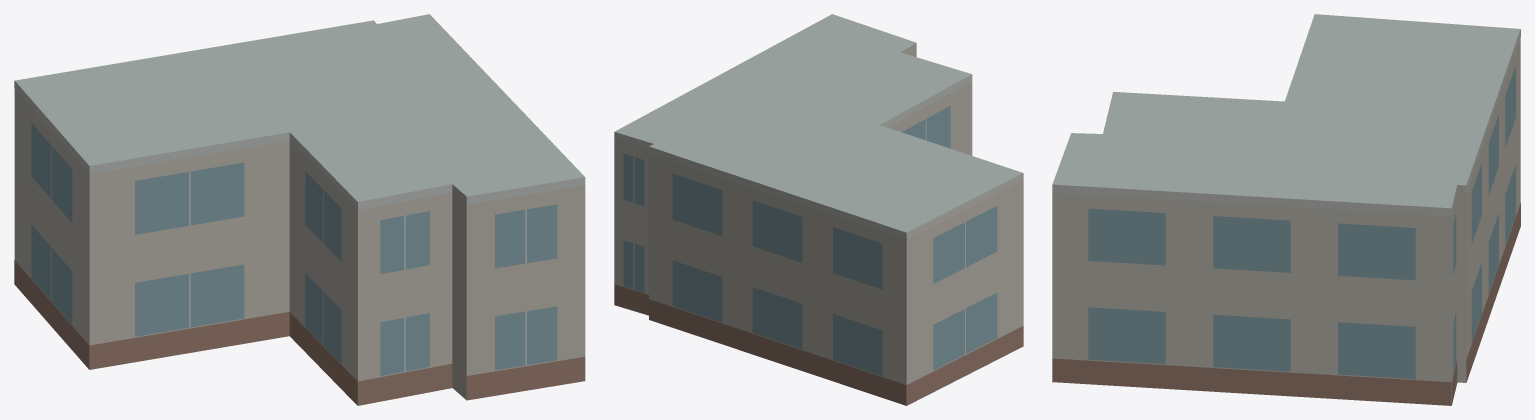
File: survey-upis-33006560.glb
3 views of the same model, side by side, from view 1: azimuth 30°, elevation 25°; view 2: azimuth 150°, elevation 25°; view 3: azimuth 270°, elevation 25° (orthographic). The views are drawn at different scales.
Visible parts, largest first — view 1: survey-upis-33006560.tmp; view 2: survey-upis-33006560.tmp; view 3: survey-upis-33006560.tmp.
Boxes of the visible parts, x1,y1,x2,y2 form: survey-upis-33006560.tmp: (14,14,585,405); survey-upis-33006560.tmp: (614,14,1023,405); survey-upis-33006560.tmp: (1052,14,1520,405).
Bounding box in the file's own units: 12.88 × 6.1 × 13.12.
